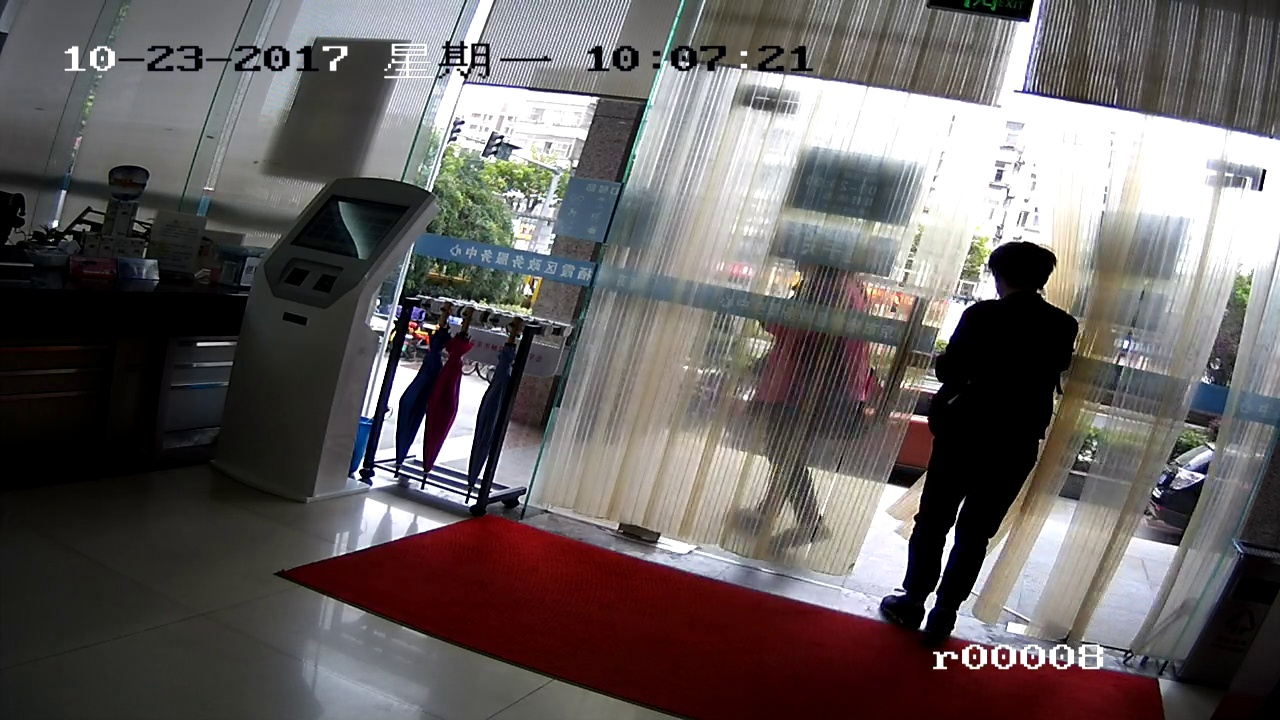monitor: (309, 197, 390, 269)
person: (915, 236, 1062, 642), (765, 222, 871, 573)
